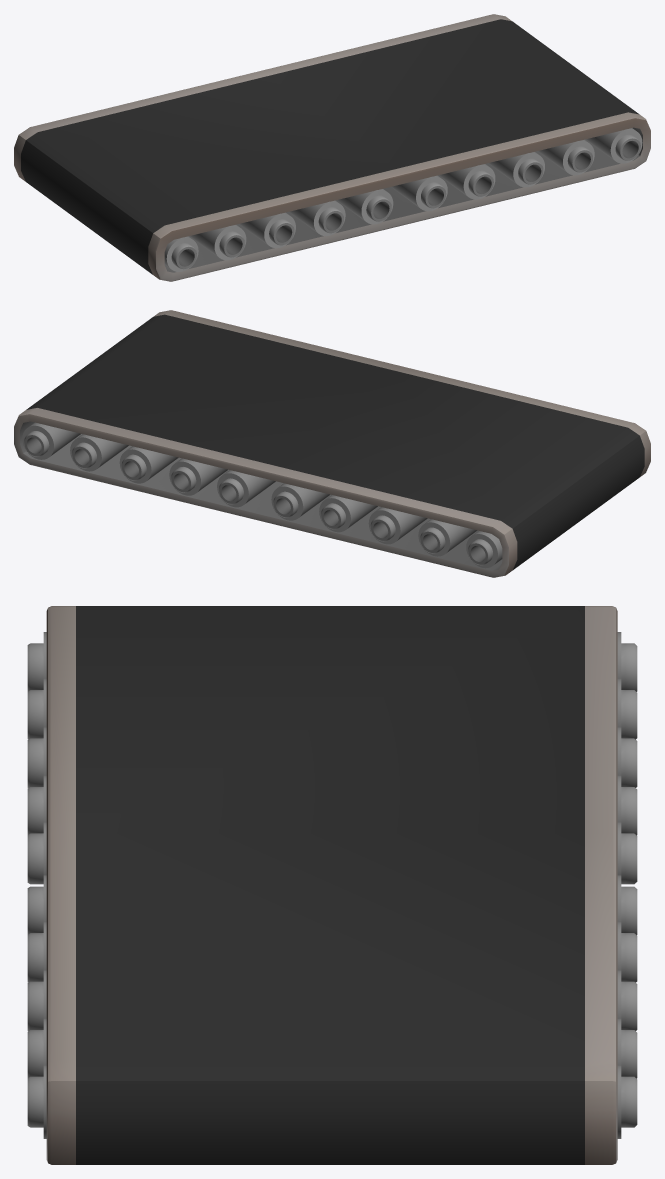
File: liukuhihna_keski.fbx
3 views of the same model, one above another, from view 1: azimuth 30°, elevation 25°; view 2: azimuth 150°, elevation 25°; view 3: azimuth 270°, elevation 25° (orthographic). The views are drawn at different scales.
Visible parts, largest first — view 1: liukuhihna_keski; view 2: liukuhihna_keski; view 3: liukuhihna_keski.
Boxes of the visible parts, x1=… form: liukuhihna_keski: x1=14, y1=14, x2=650, y2=281; liukuhihna_keski: x1=14, y1=310, x2=650, y2=577; liukuhihna_keski: x1=27, y1=606, x2=637, y2=1164.
Size of the model in its own units: 201 by 20.07 by 107.
Materials: 2 (1 with a texture image).
